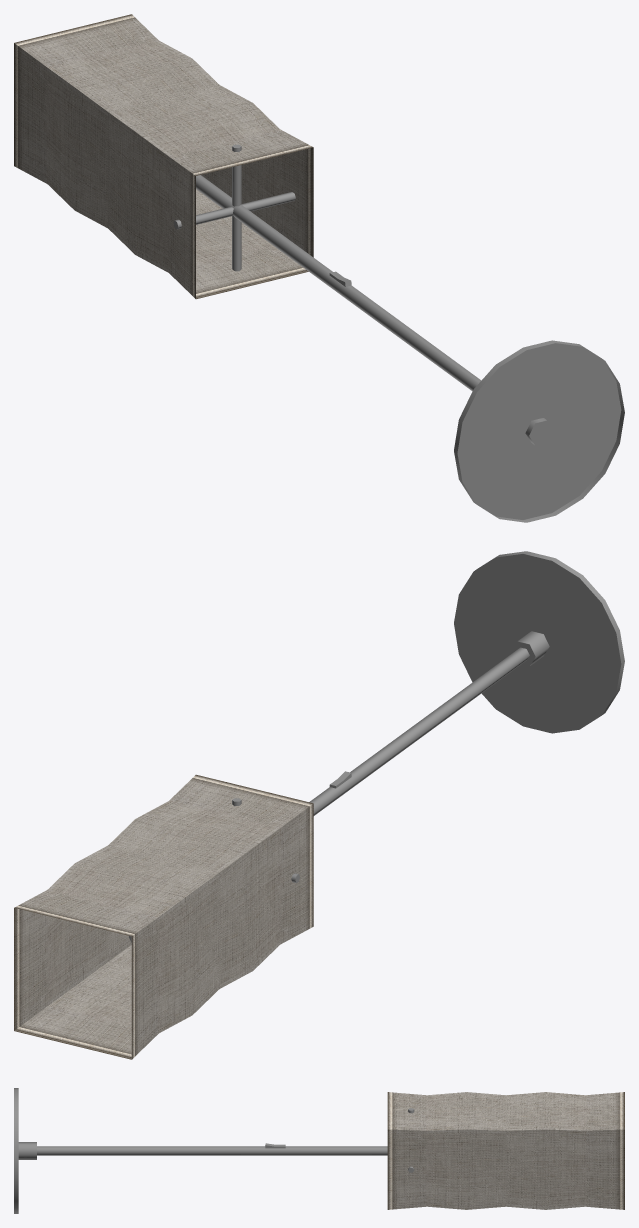
The model's file is light_floor_001.FBX.
3 renders of one model, top to bottom at view 1: azimuth 30°, elevation 25°; view 2: azimuth 150°, elevation 25°; view 3: azimuth 270°, elevation 25°, orthographic. The views are drawn at different scales.
Parts seen in each view (by area): view 1: light_floor_001; view 2: light_floor_001; view 3: light_floor_001.
Boxes of the visible parts, <box> form: light_floor_001: <box>14,14,624,522</box>; light_floor_001: <box>14,551,624,1059</box>; light_floor_001: <box>14,1088,624,1213</box>.
Bounding box in the file's own units: 40 × 39.39 × 194.
